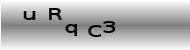3: (103, 20, 116, 32)
C: (87, 23, 102, 37)
R: (48, 7, 63, 21)
q: (65, 22, 78, 37)
u: (22, 9, 37, 21)
